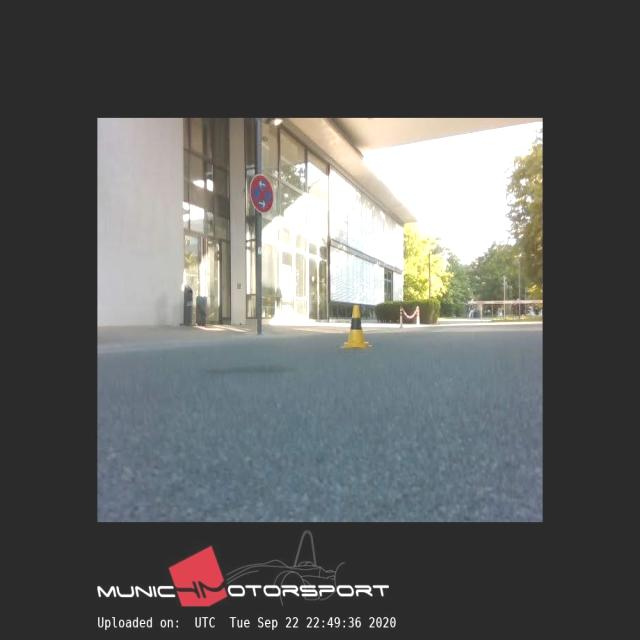yellow_cone: (342, 305, 372, 348)
